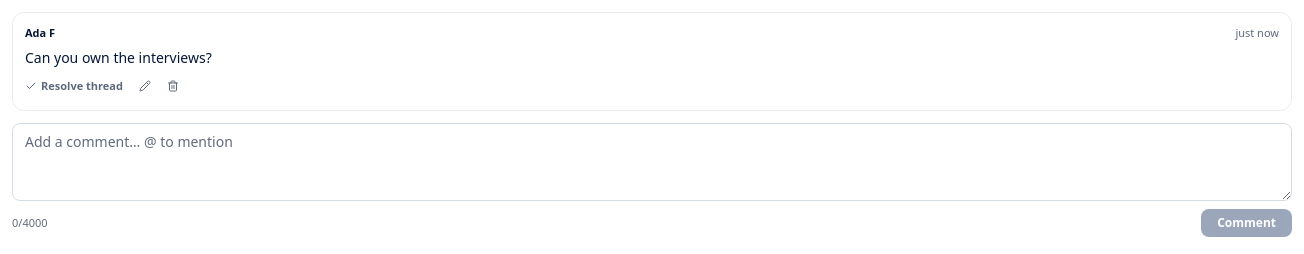
CommentThread › deletes after an inline confirm
Click the button named "Delete comment" at point(173, 86), box left=161, top=74, right=185, bottom=98
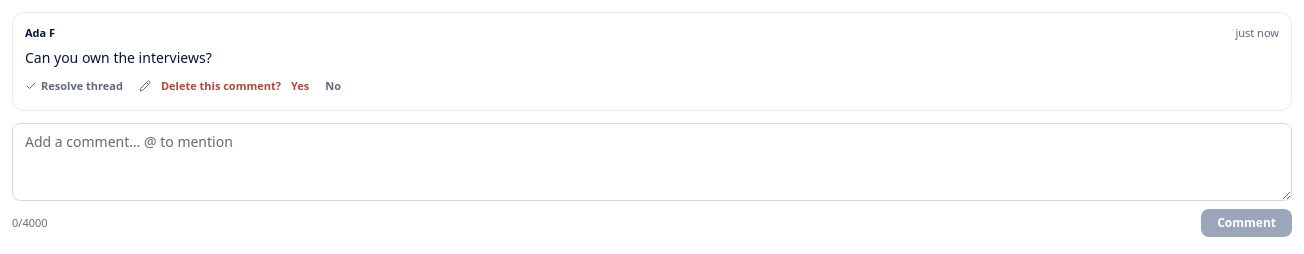
Click the button "Yes" at point(300, 86), box left=285, top=76, right=315, bottom=96
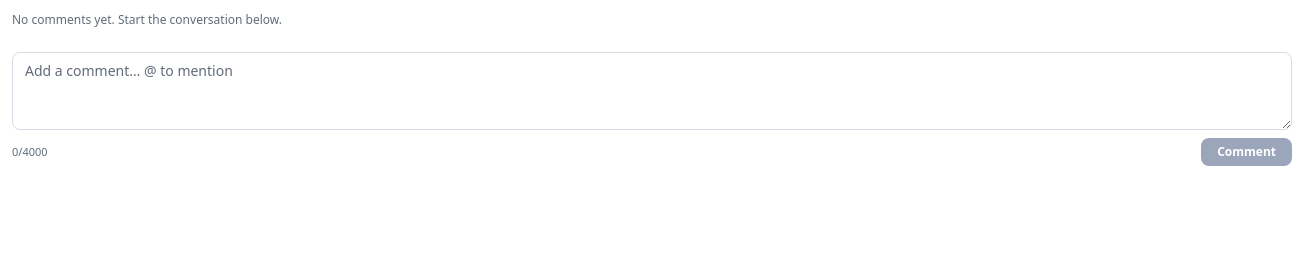
Check: the text "No comments yet. Start the conversation below." is shown, box left=12, top=11, right=282, bottom=28
